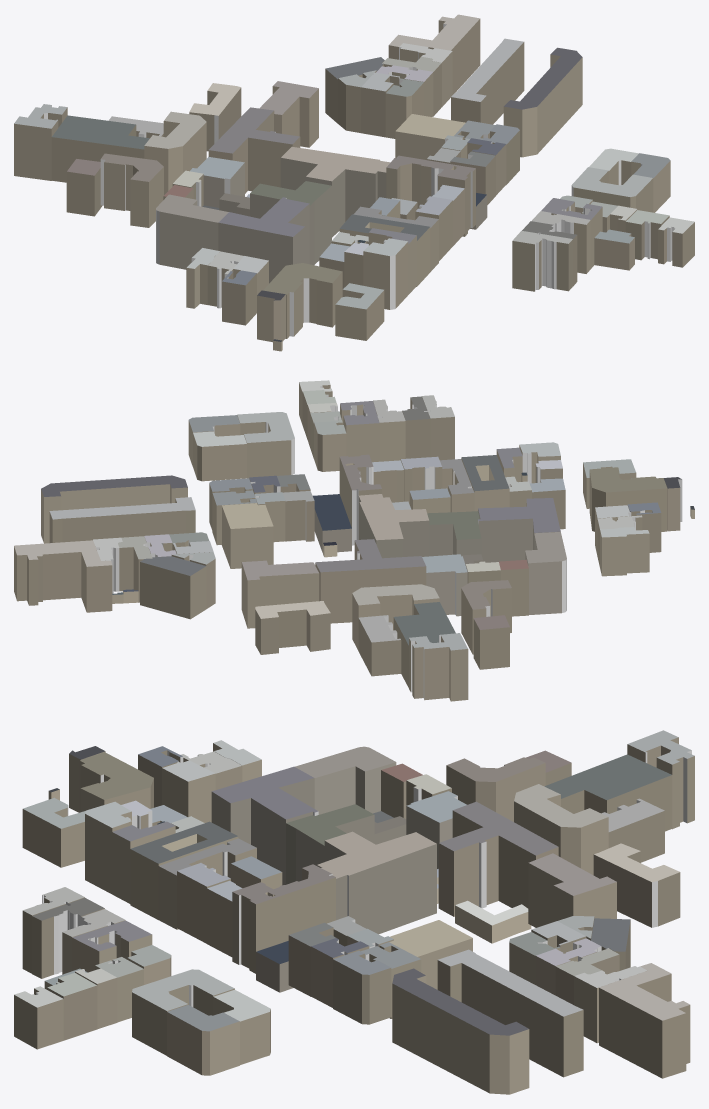
3 renders of one model, top to bottom at view 1: azimuth 30°, elevation 25°; view 2: azimuth 150°, elevation 25°; view 3: azimuth 270°, elevation 25°, orthographic. The views are drawn at different scales.
Visible parts, largest first — view 1: tuile; view 2: tuile; view 3: tuile.
Part boxes in pixels (x1=…): tuile: x1=14, y1=14, x2=694, y2=351; tuile: x1=14, y1=380, x2=694, y2=701; tuile: x1=14, y1=730, x2=694, y2=1094.
Size of the model in its own units: 286 by 39.47 by 270.
